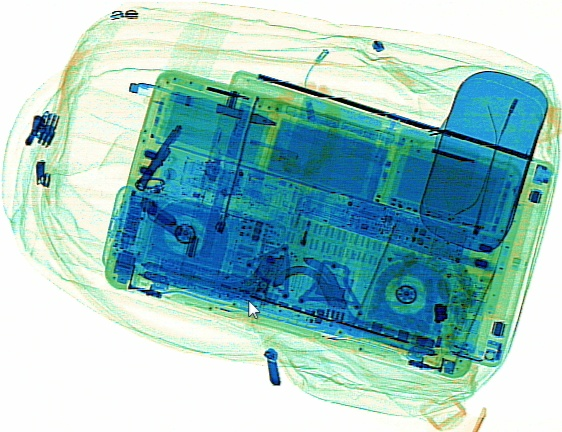lighter: (266, 192, 319, 290)
